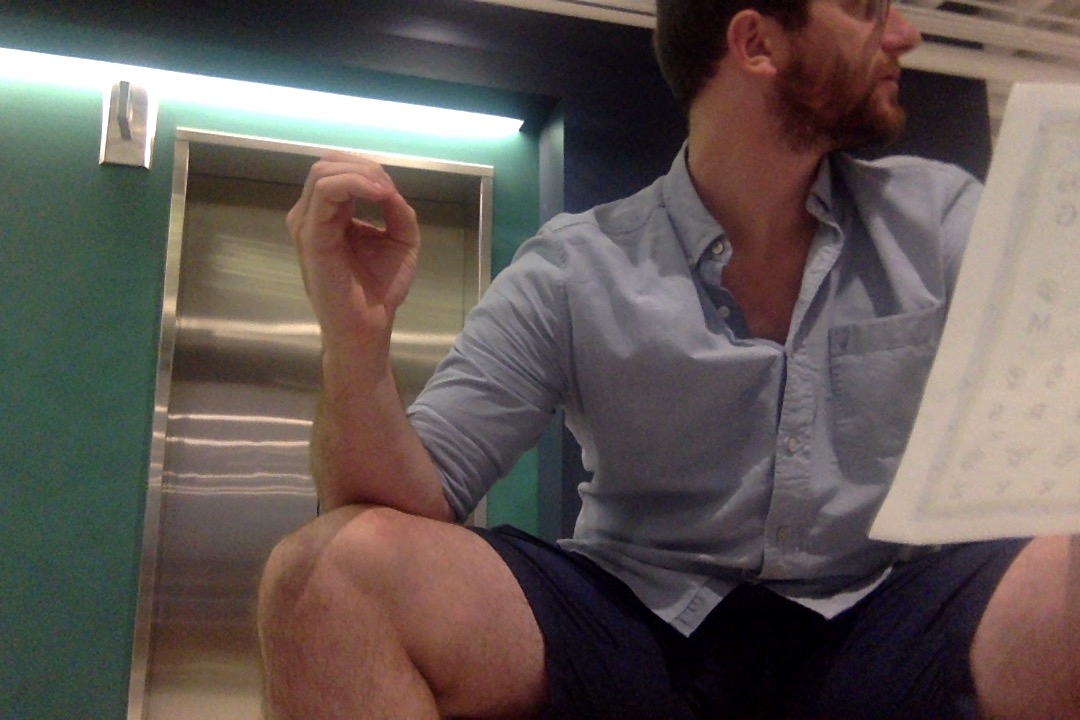o: (287, 148, 424, 330)
